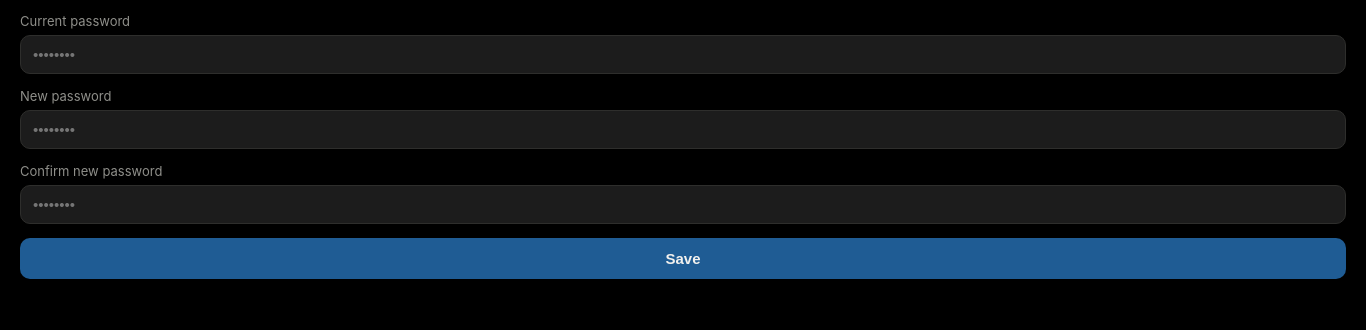
Scenario: ChangePasswordForm › requires both password fields by default
Click the button "Save" at (683, 258), box top-left (20, 238), bottom-right (1346, 279)
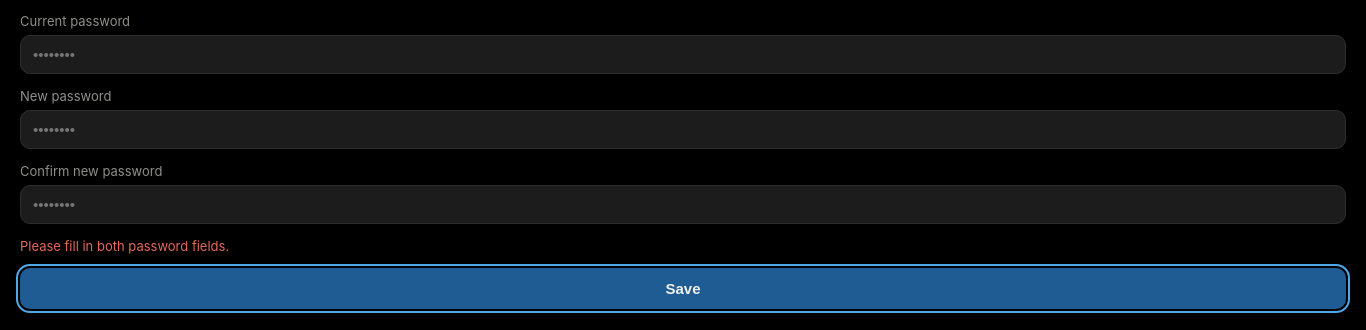
Check: the message reads "Please fill in both password fields.", box top-left (20, 238), bottom-right (229, 254)
